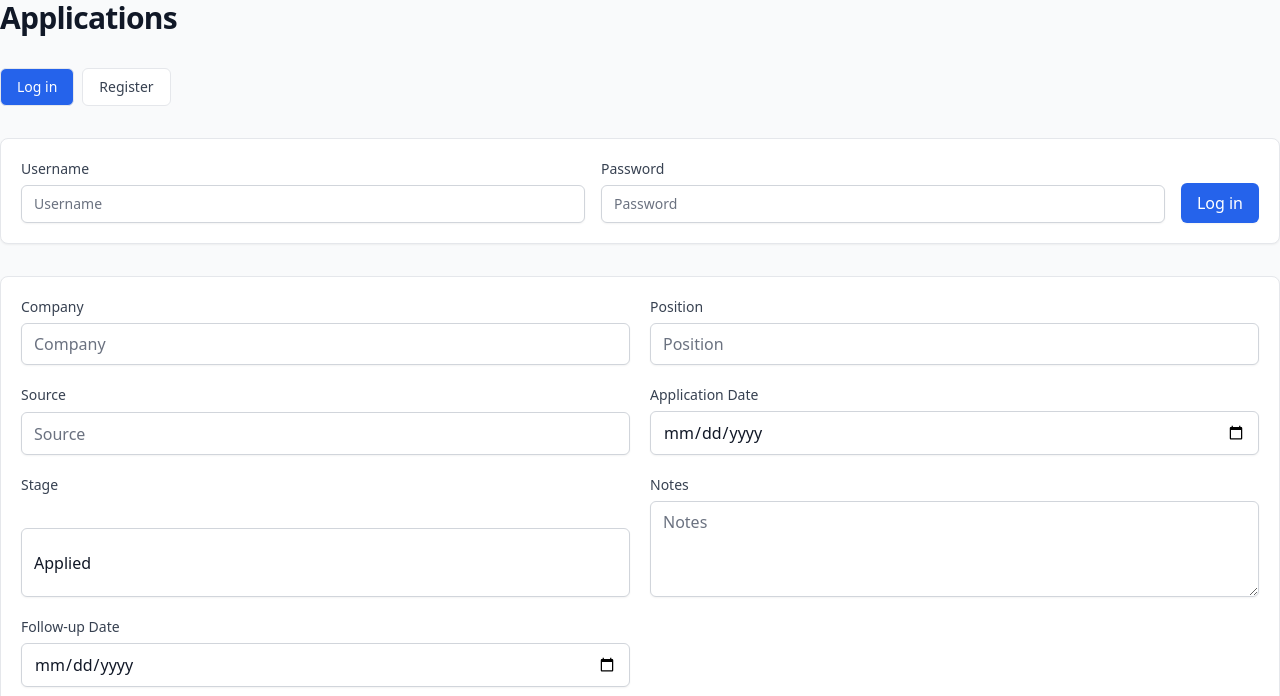
ApplicationsView › registers a new user and directs them to log in
Click the button "Register": {"x": 126, "y": 87} [82,68,171,106]
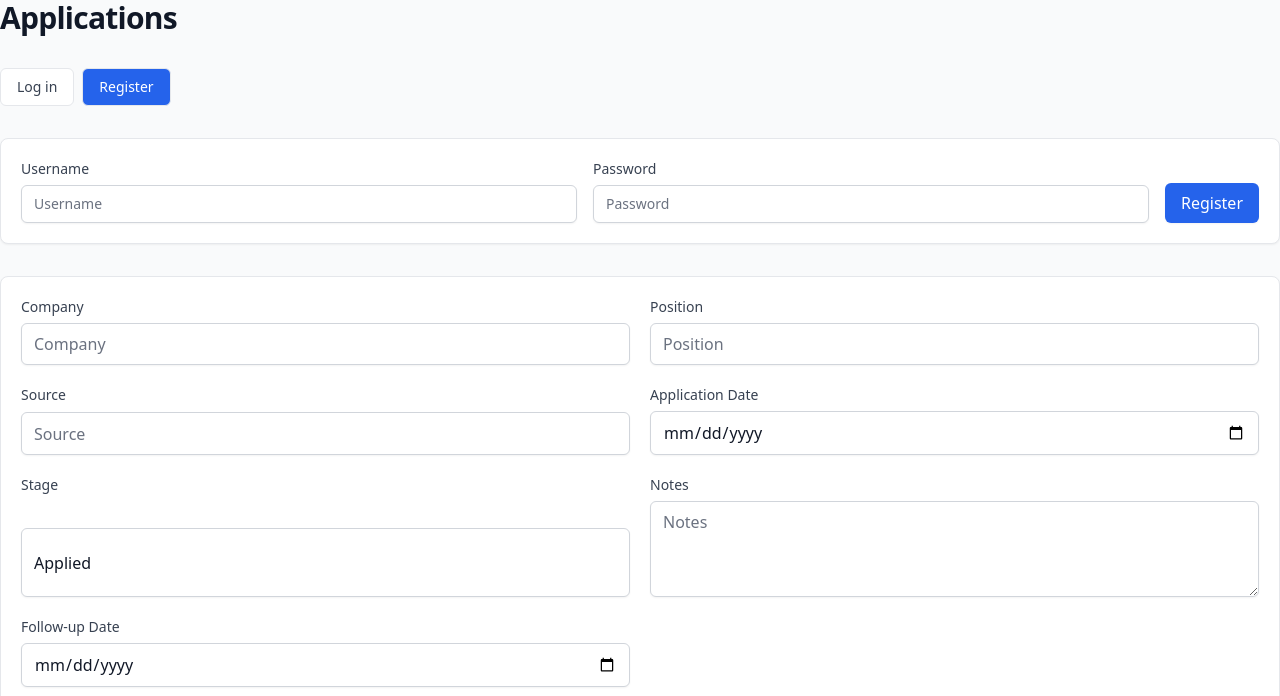
In the field with placeholder "Username": {"x": 299, "y": 204} [21,185,577,223], type "new-user"
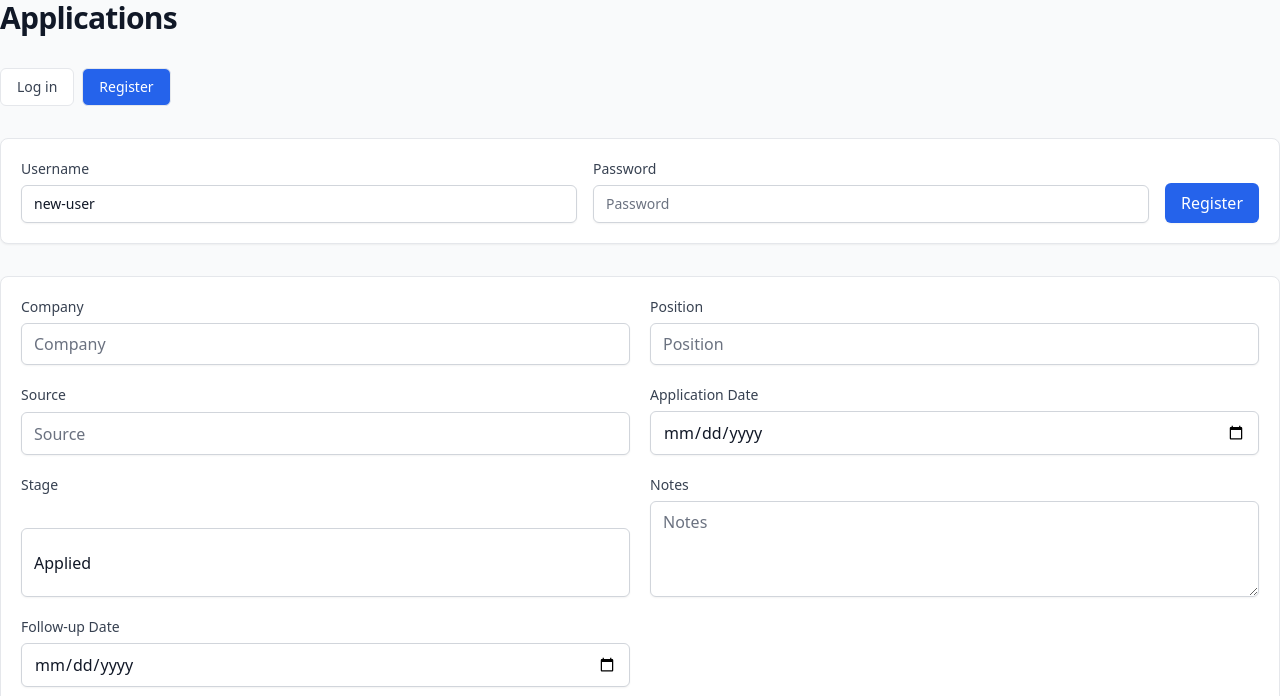
In the password field with placeholder "Password": {"x": 871, "y": 204} [593,185,1149,223], type "password"
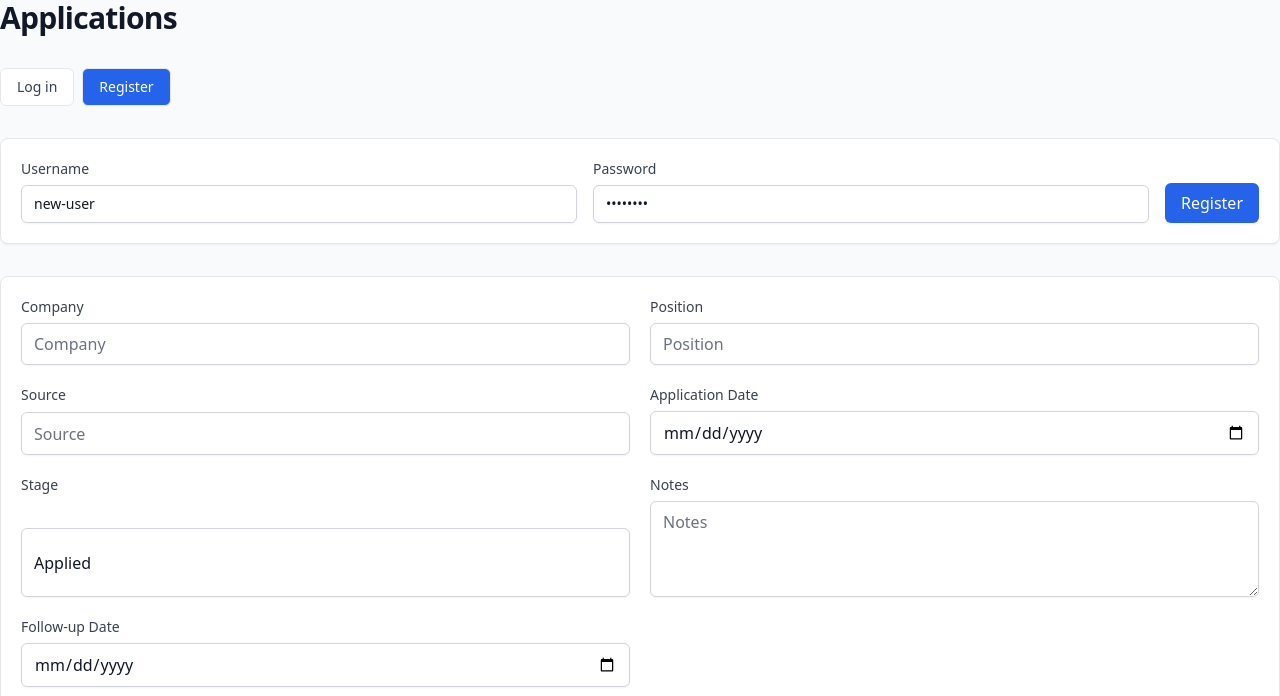
Submit the form with test id "register-form", box [0,138,1279,244]
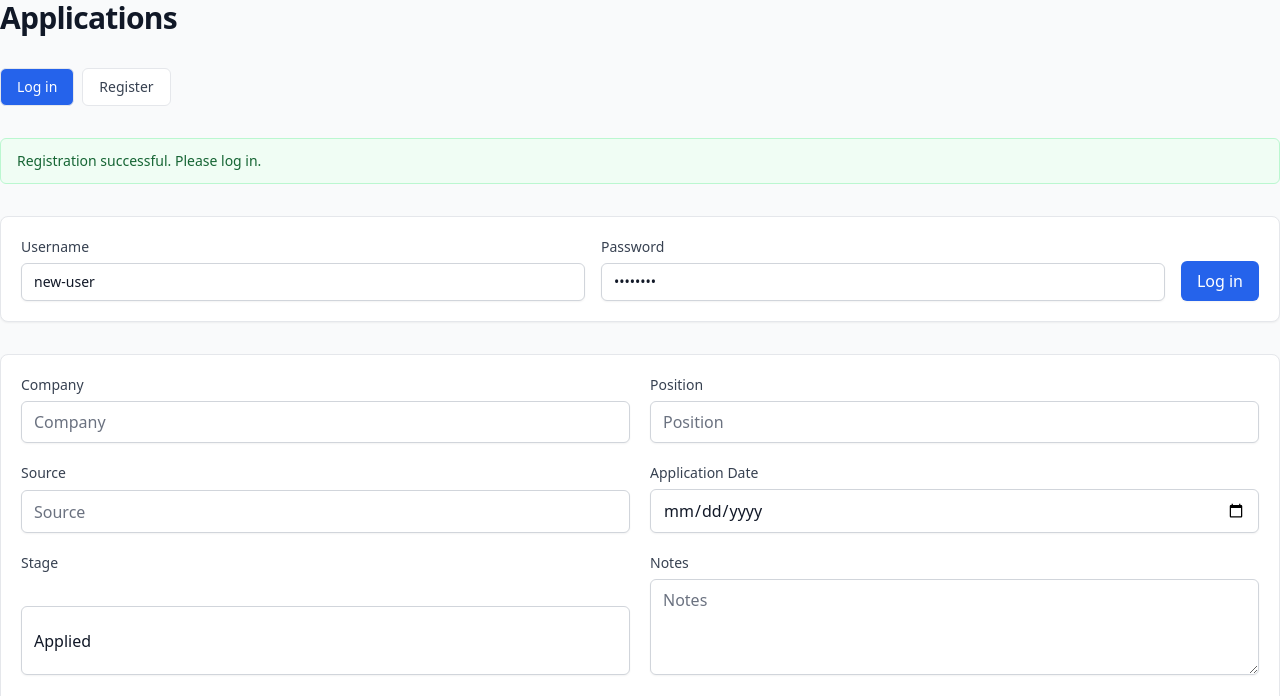
Check: the form with test id "login-form" is shown, box [0,216,1279,322]
Check: the text "Registration successful. Please log in." is shown, box [0,138,1279,184]
